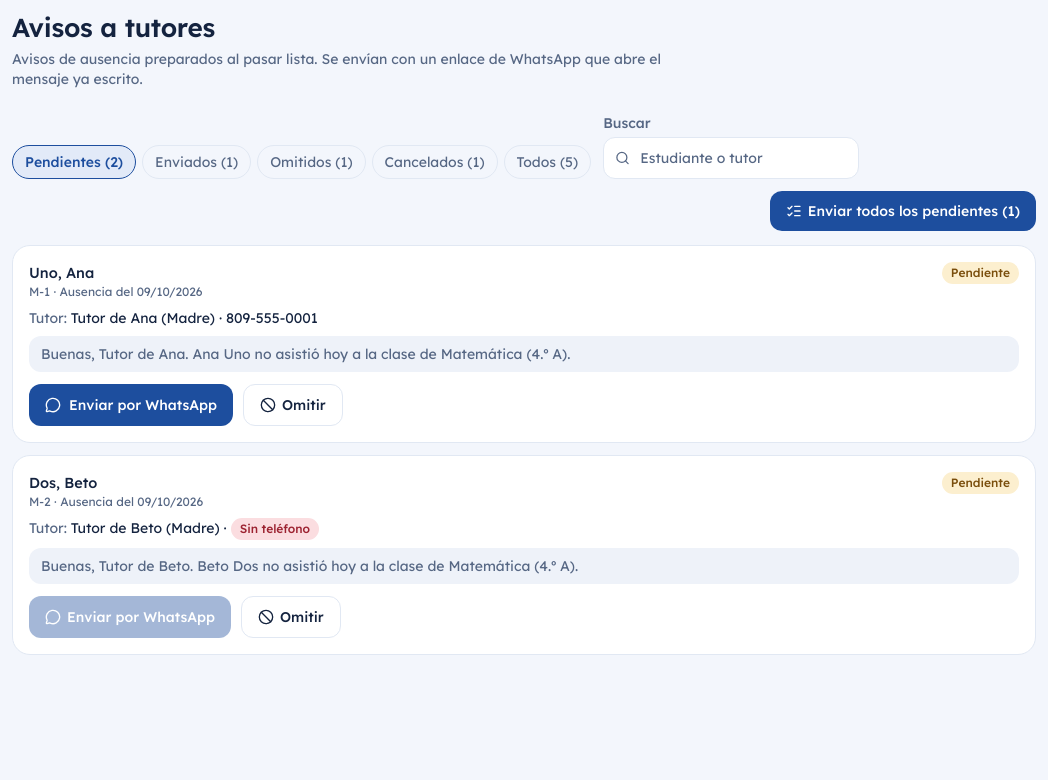
Scenario: Avisos a tutores › el enlace de WhatsApp lleva el número y el mensaje, y marca el aviso como enviado
Step 1. Click the link "Enviar por WhatsApp" → (131, 405), box x1=29 y1=384 x2=233 y2=426
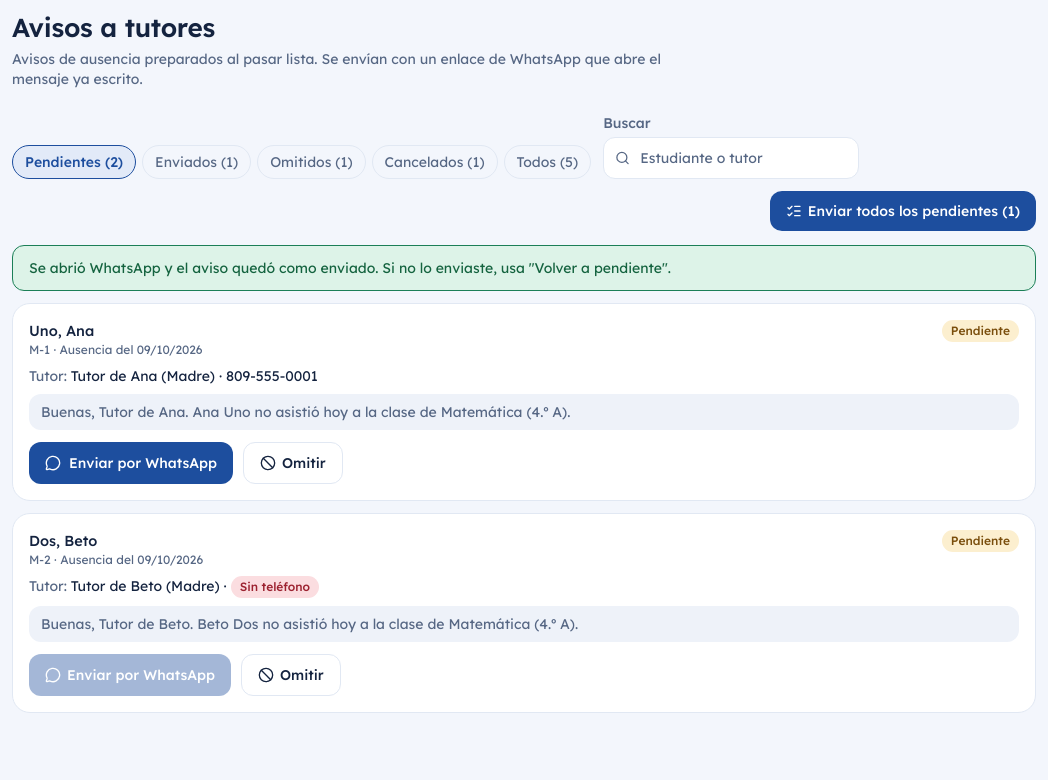
Check: the text "el aviso quedó como enviado" is shown, box x1=29 y1=258 x2=671 y2=276
